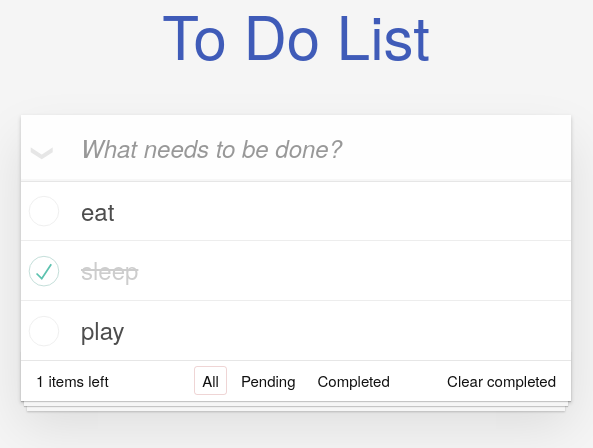
Toggle the completion status of all tasks › Click the Toggle All button (arrow down button) and all tasks should change accordingly
The image size is (593, 448).
Step 1. Click the checkbox with test id "toggle-all" → coordinates (38, 147), box [21,117,55,177]
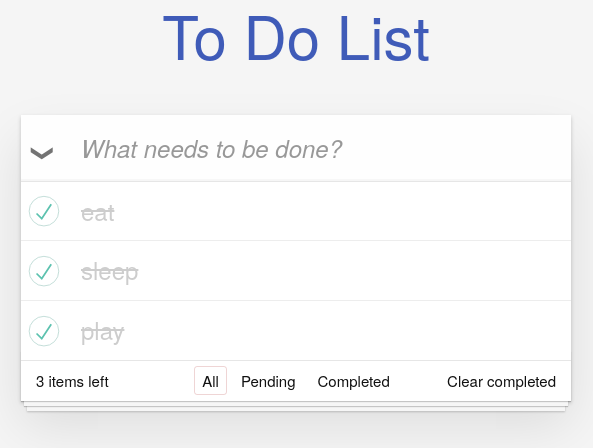
expect the checkbox with test id "todo-done" is checked: met, box [21,182,571,240]
Step 2. Click the checkbox with test id "toggle-all" → coordinates (38, 147), box [21,117,55,177]
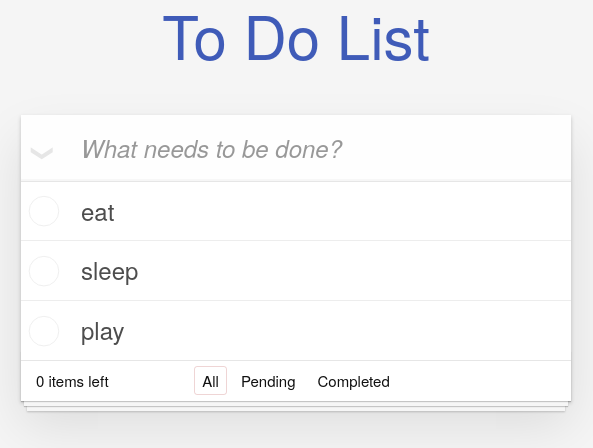
expect the checkbox with test id "todo-done" is not checked: met, box [21,182,571,240]
